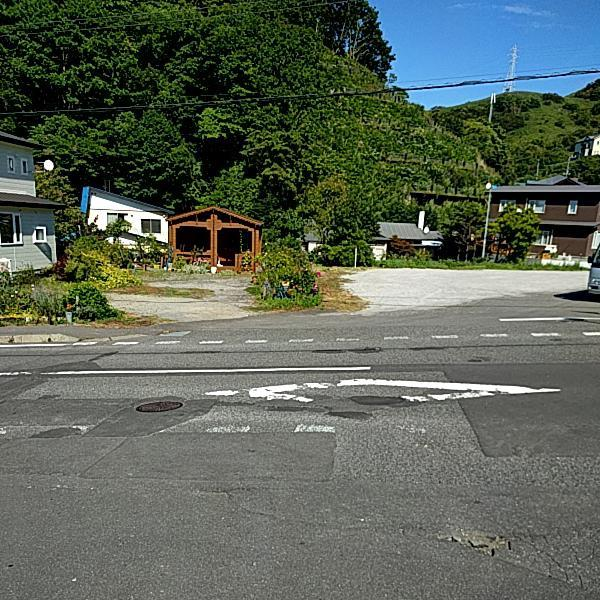D10: (218, 493, 294, 523), (187, 479, 289, 497)
D20: (502, 521, 594, 589)
D40: (433, 520, 517, 561)
D43: (200, 369, 567, 408)
D50: (132, 397, 184, 415)
